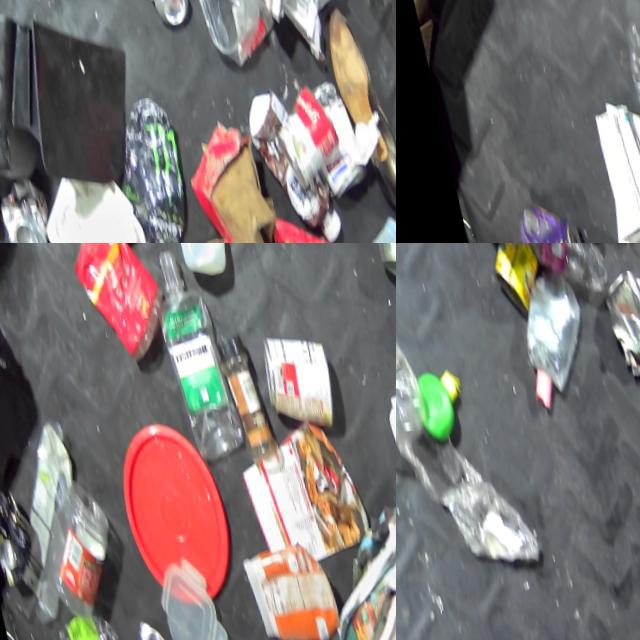can: (101, 82, 196, 243), (248, 319, 339, 428), (261, 66, 343, 185), (596, 253, 640, 370), (505, 190, 580, 243), (485, 243, 545, 309), (0, 482, 36, 591), (0, 168, 51, 243), (112, 607, 179, 640), (129, 0, 191, 23)
milk_jug: (317, 197, 396, 243), (191, 615, 333, 640)
plastic_bottle: (142, 243, 239, 462), (507, 260, 597, 404), (396, 243, 425, 444), (523, 243, 609, 291), (35, 599, 125, 640)
